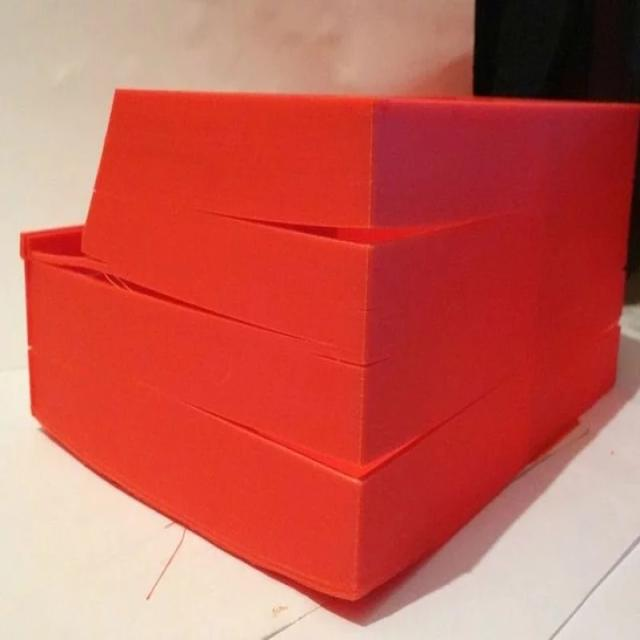cracks: (234, 407, 483, 536), (123, 274, 425, 373), (261, 193, 471, 286)
